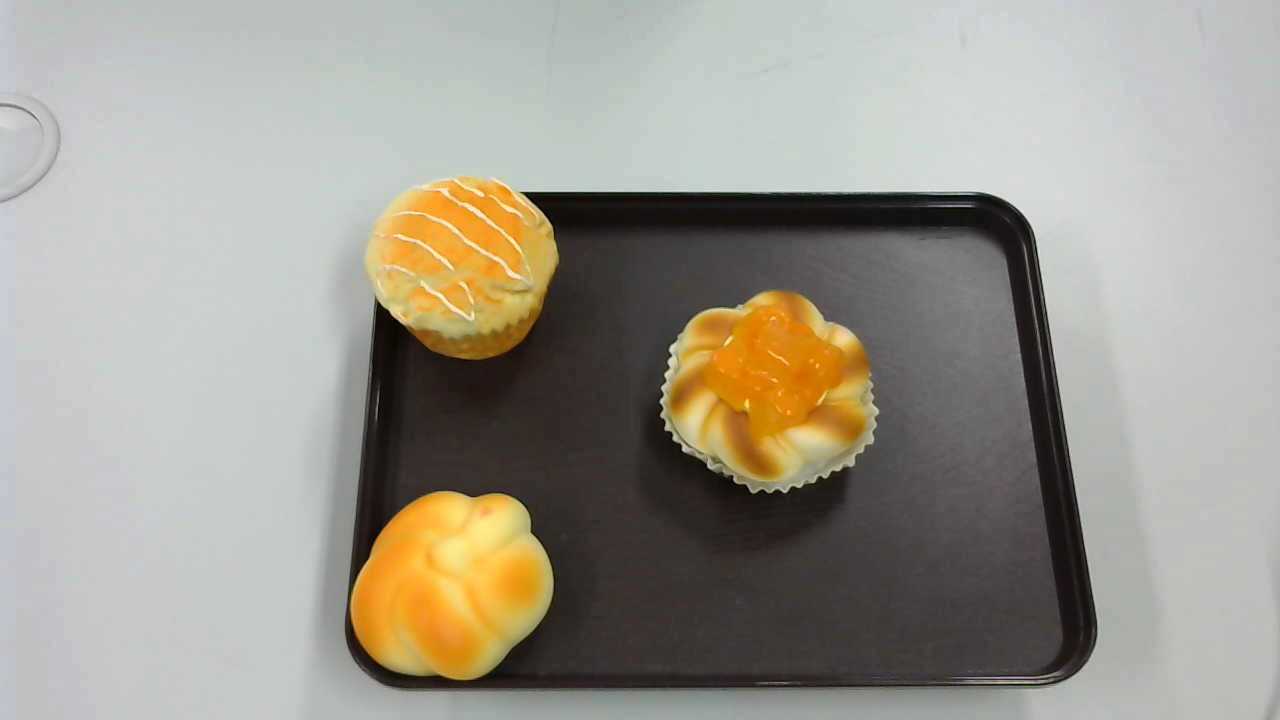croissant: (350, 489, 554, 678)
cupcake: (365, 174, 560, 359)
mango tart: (658, 289, 880, 494)
